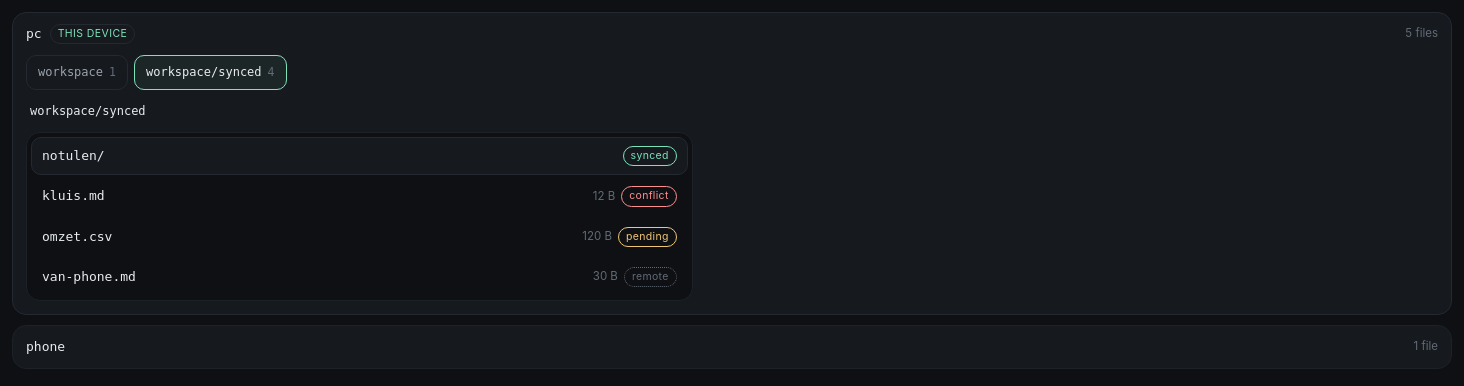
it: FileExplorer › switches node sections, and only the open one shows rows
Click the button "phone 1 file" at (46, 347), box [13,326,1451,368]
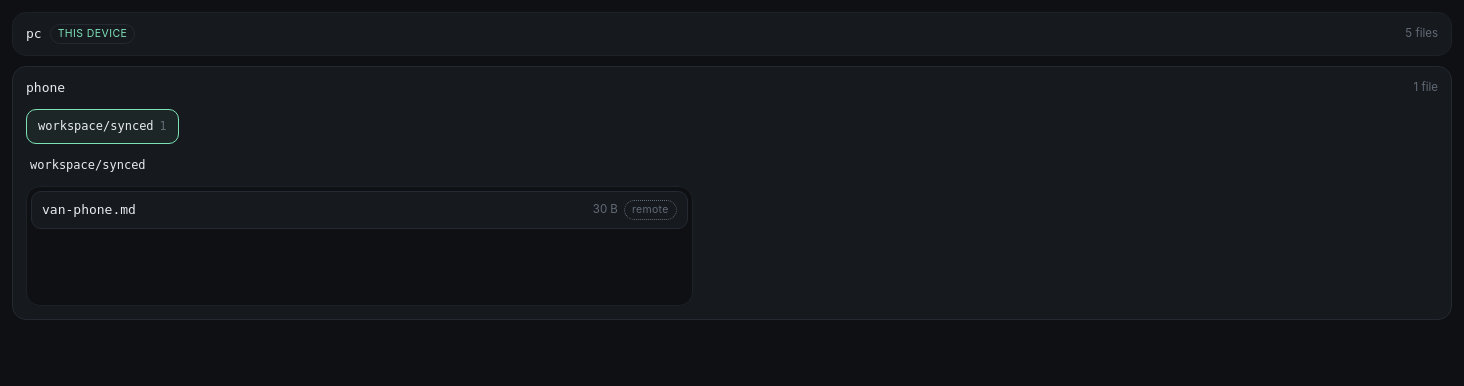
Expected: the text "van-phone.md" is shown, [42,200,136,220]
Now the text "omzet.csv" is gone
Click the button "phone 1 file" at (46, 88), box [13,67,1451,109]
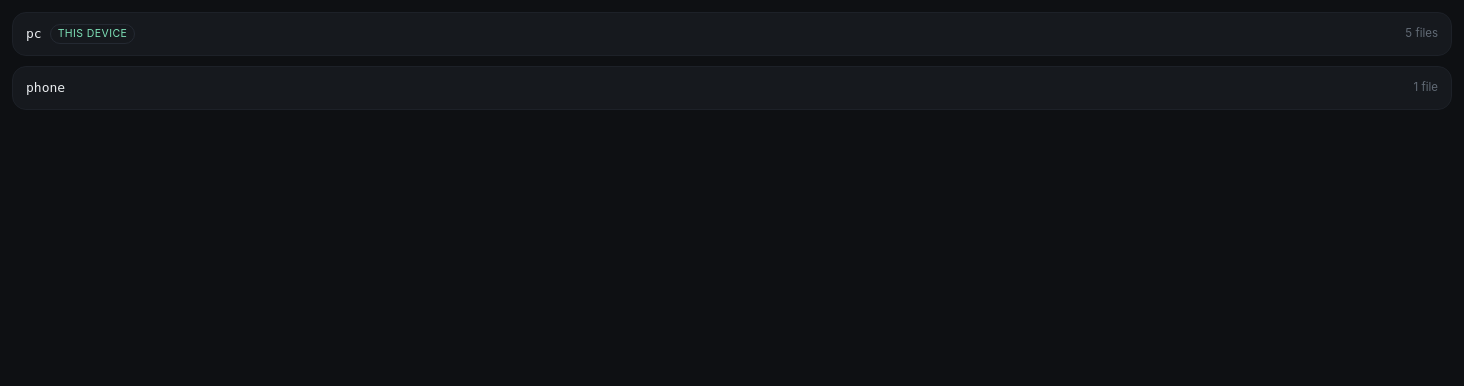
Now the text "van-phone.md" is gone
